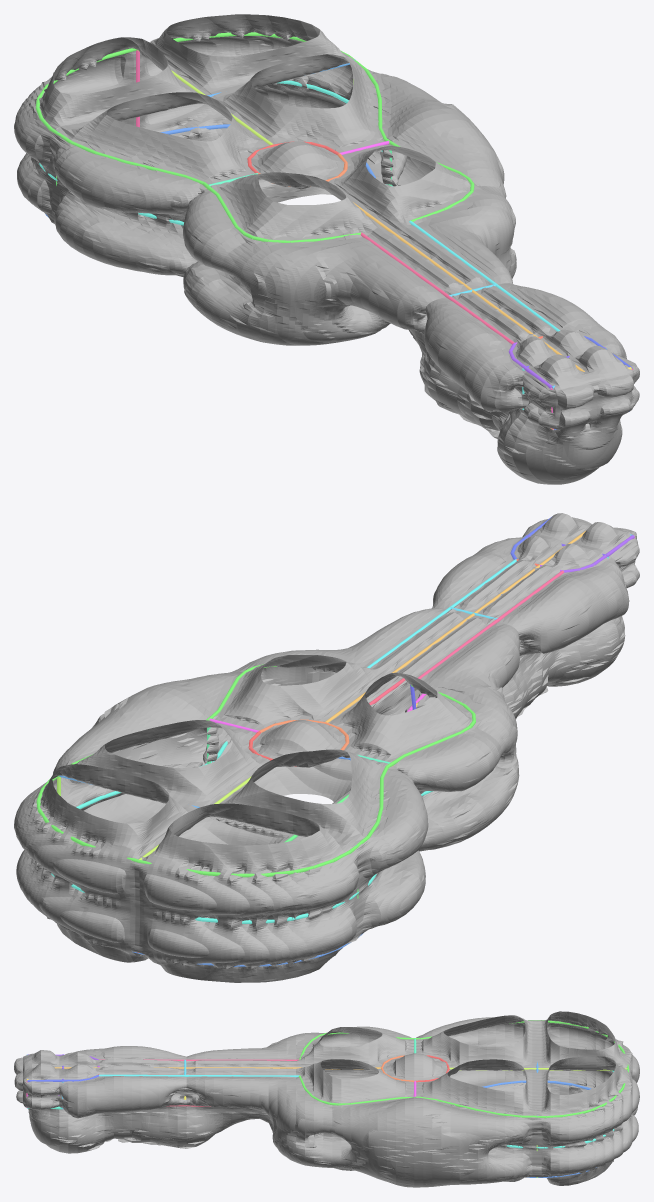
Rendered from t2f_guitar.gltf.
3 renders of one model, top to bottom at view 1: azimuth 30°, elevation 25°; view 2: azimuth 150°, elevation 25°; view 3: azimuth 270°, elevation 25°, orthographic. The views are drawn at different scales.
Size of the model in its own units: 0.4282 by 0.1565 by 0.969.
